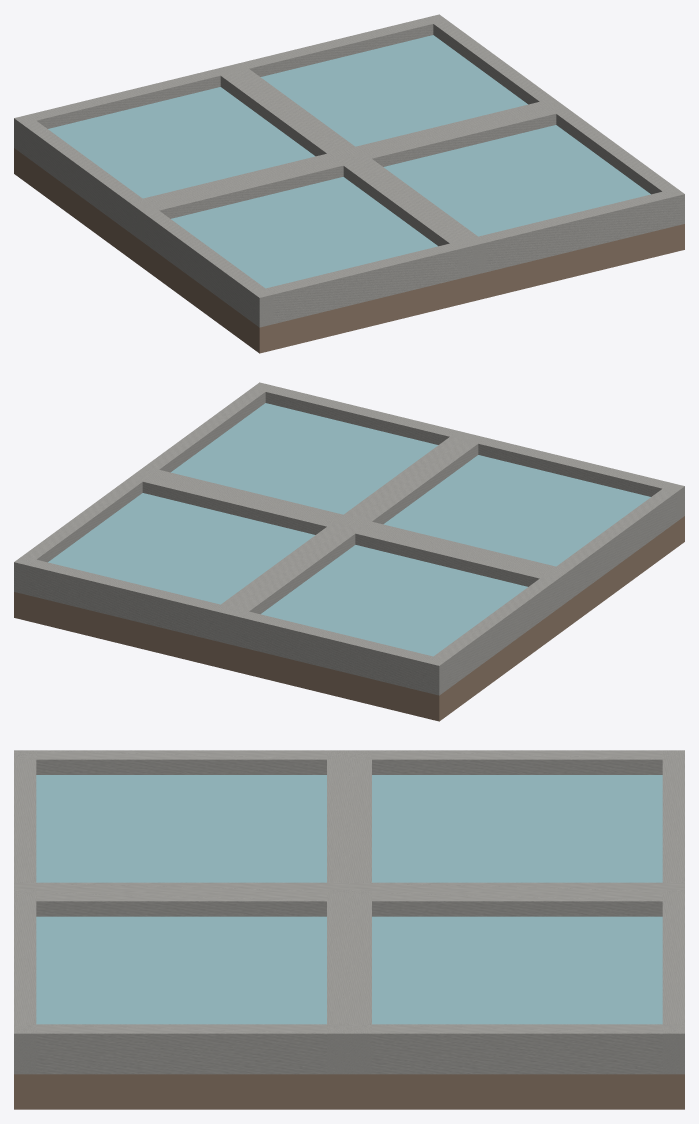
File: andean-terraces-and-stone-village-salt-pan-plate-f26a1700__38238.glb
3 renders of one model, top to bottom at view 1: azimuth 30°, elevation 25°; view 2: azimuth 150°, elevation 25°; view 3: azimuth 270°, elevation 25°, orthographic. The views are drawn at different scales.
Parts seen in each view (by area): view 1: salt-pan-plate-water, salt-pan-plate-stone, salt-pan-plate-earth; view 2: salt-pan-plate-water, salt-pan-plate-stone, salt-pan-plate-earth; view 3: salt-pan-plate-water, salt-pan-plate-stone, salt-pan-plate-earth.
Boxes of the visible parts, <box> form: salt-pan-plate-water: <box>48,35,650,288</box>; salt-pan-plate-stone: <box>14,14,684,327</box>; salt-pan-plate-earth: <box>14,148,684,353</box>; salt-pan-plate-water: <box>48,403,650,656</box>; salt-pan-plate-stone: <box>14,382,684,695</box>; salt-pan-plate-earth: <box>14,516,684,721</box>; salt-pan-plate-water: <box>36,775,662,1024</box>; salt-pan-plate-stone: <box>14,750,684,1074</box>; salt-pan-plate-earth: <box>14,1074,684,1109</box>.
Bounding box in the file's own units: 2.4 × 0.3 × 2.4.
Materials: 3 (1 with a texture image).
